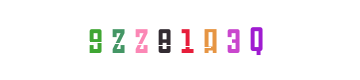1: (147, 0, 227, 80)
3: (170, 0, 250, 80)
8: (140, 0, 220, 80)
A: (151, 0, 231, 80)
G: (67, 0, 147, 80)
Q: (206, 0, 286, 80)
Z: (87, 0, 167, 80), (124, 0, 204, 80)
